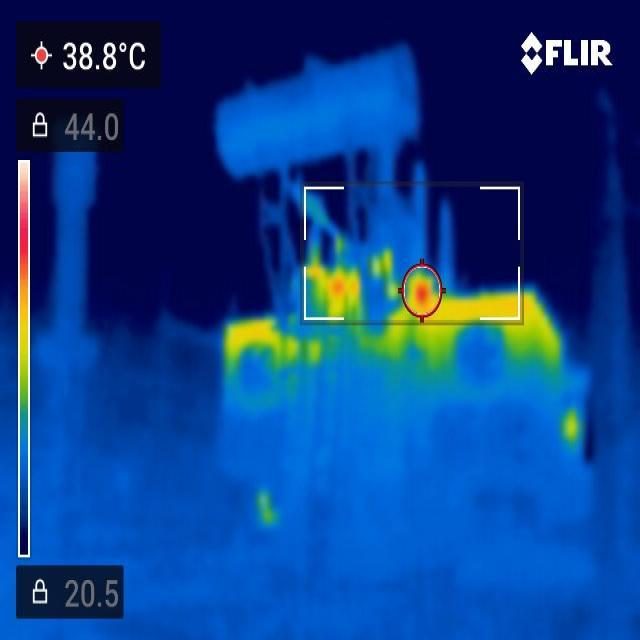Loose Joint -Faulty: (260, 244, 503, 356)
